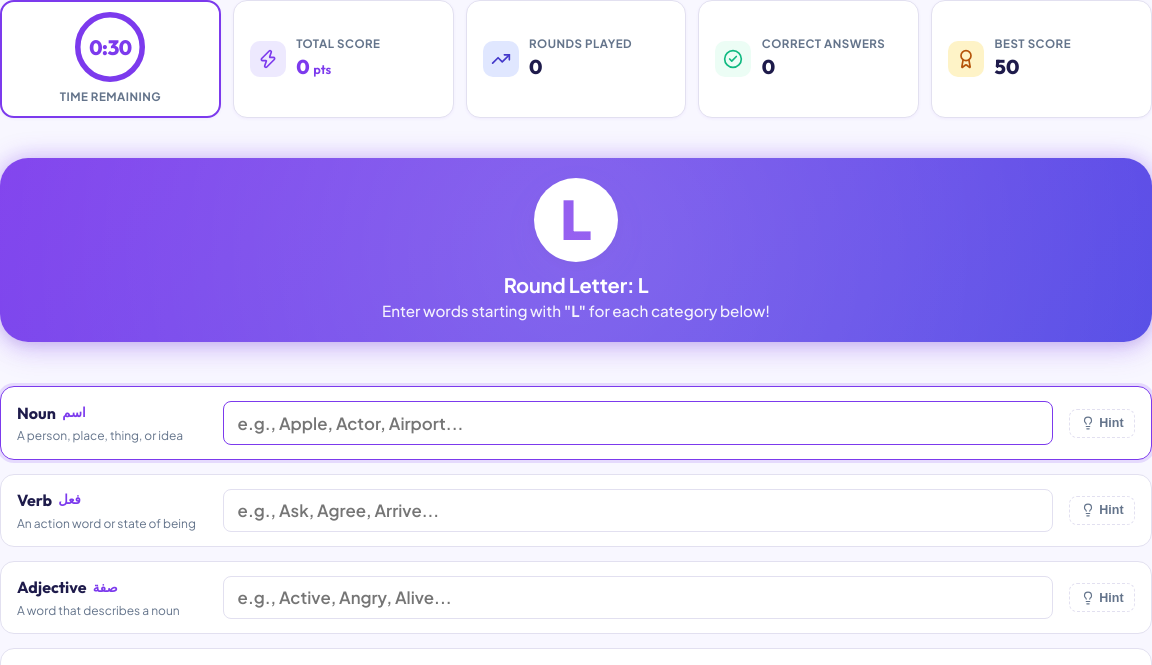
Test: Game Flow, Validation, Scoring & UI (Sections A, B, C, D, F) › A6: Clear button clears inputs without modifying score or timer
The image size is (1152, 665).
In the field with id "input-noun": (638, 423) [223,401,1053,445], type "Something"
(page scrolled)
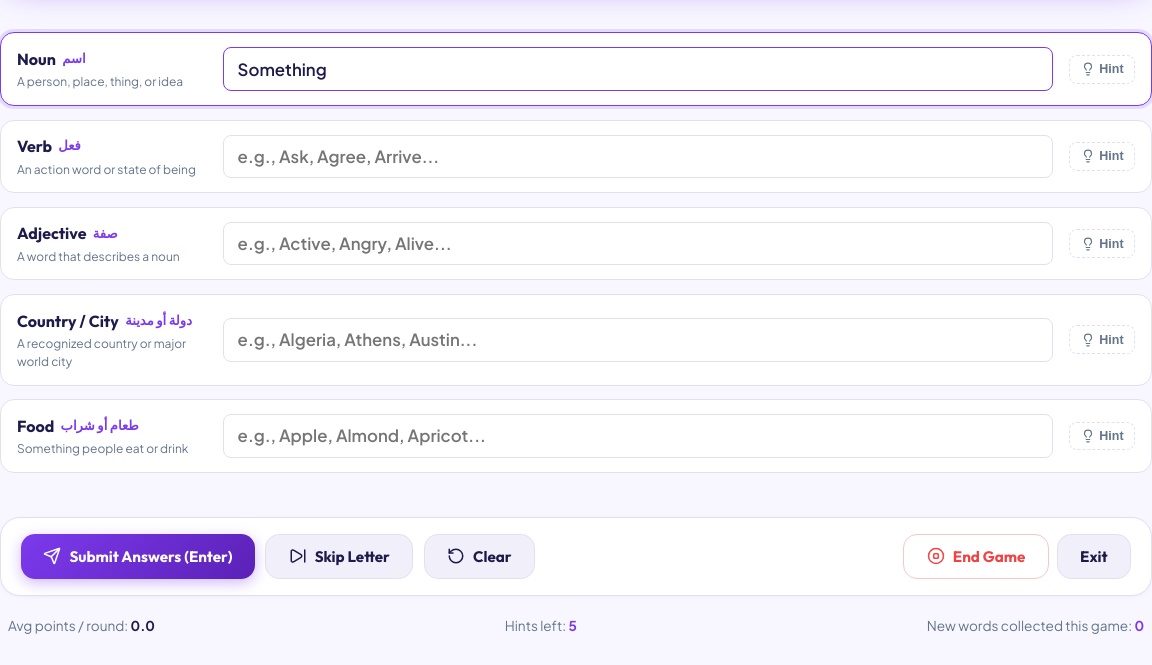
Click the button "Clear": (479, 556) [424,534,535,579]
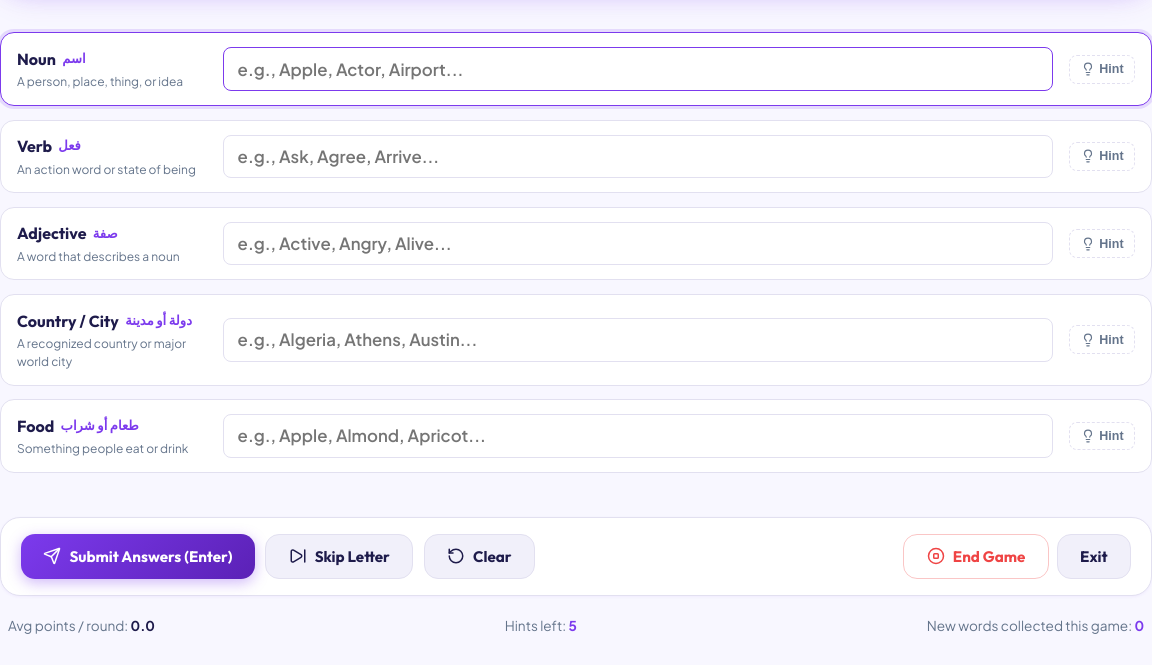
Check: the field with id "input-noun" is empty, box [223,47,1053,91]
